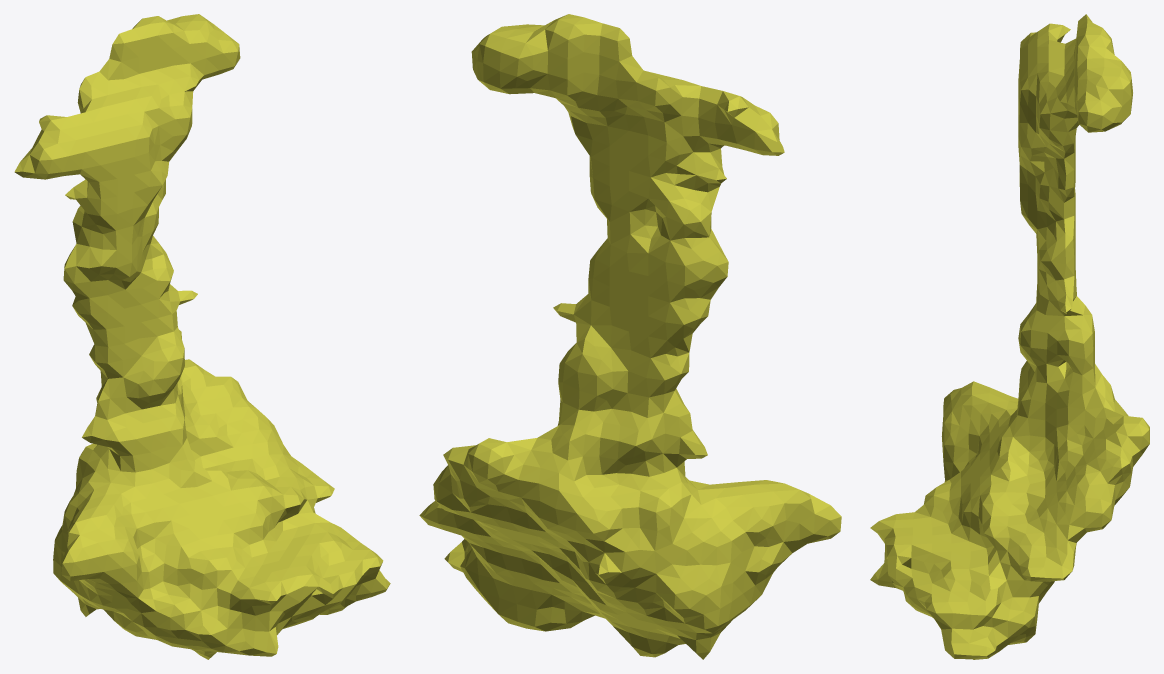
File: aseg_017_Left-Hippocampus.glb
3 views of the same model, side by side, from view 1: azimuth 30°, elevation 25°; view 2: azimuth 150°, elevation 25°; view 3: azimuth 270°, elevation 25° (orthographic). The views are drawn at different scales.
Bounding box in the file's own units: 19.63 × 33.72 × 14.62.
